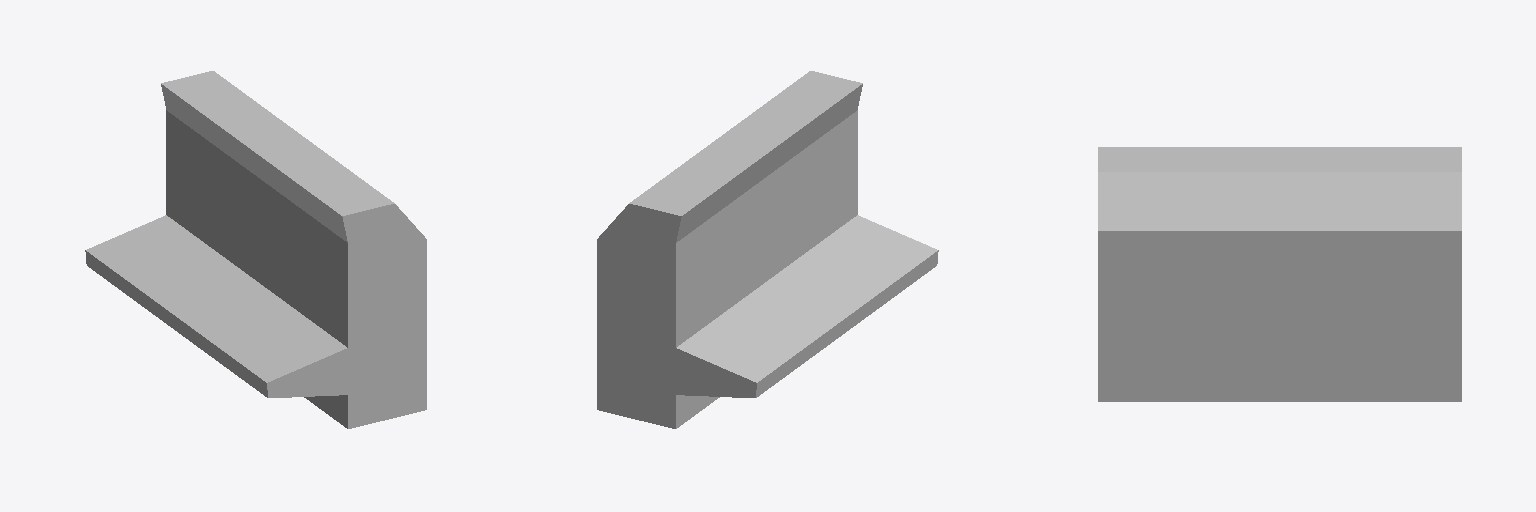
File: controlroom.obj
3 renders of one model, left to right at view 1: azimuth 30°, elevation 25°; view 2: azimuth 150°, elevation 25°; view 3: azimuth 270°, elevation 25°, orthographic.
Visible parts, largest first — view 1: pCube15; view 2: pCube15; view 3: pCube15.
Part boxes in pixels (x1,y1,x2,y2): pCube15: (85, 71, 426, 428); pCube15: (597, 71, 938, 428); pCube15: (1098, 147, 1461, 401).
Size of the model in its own units: 4.06 by 5.21 by 8.